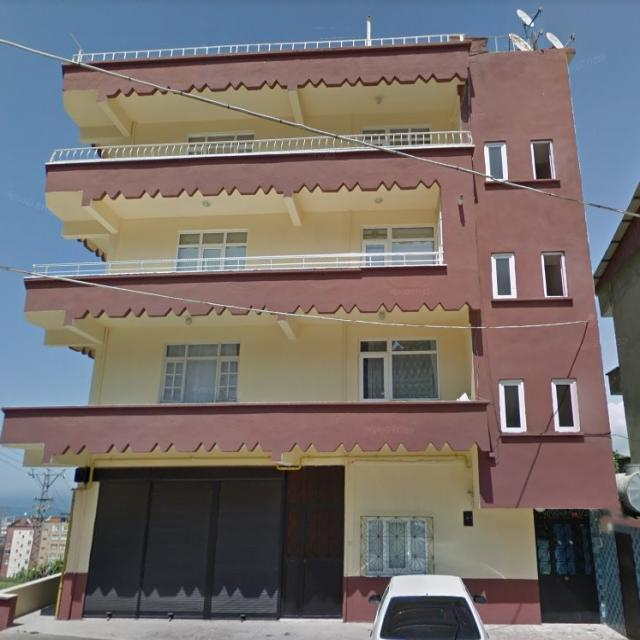Building: (1, 35, 620, 624)
